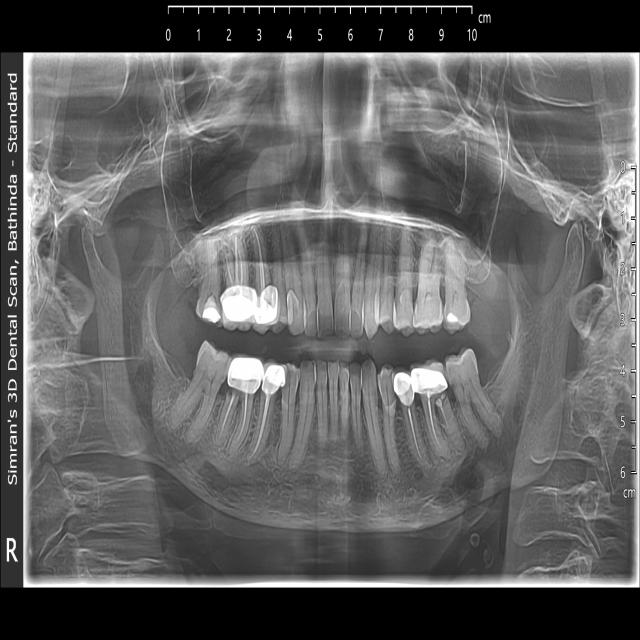Caries: (281, 362, 298, 391)
Crown: (219, 284, 278, 327), (393, 367, 447, 406)
Filling: (443, 285, 471, 331), (285, 286, 306, 334), (201, 306, 221, 322)
Root Canal Treatment: (411, 360, 465, 465), (214, 355, 263, 457), (241, 364, 285, 464), (397, 372, 432, 477), (219, 232, 254, 331), (250, 225, 274, 335)
